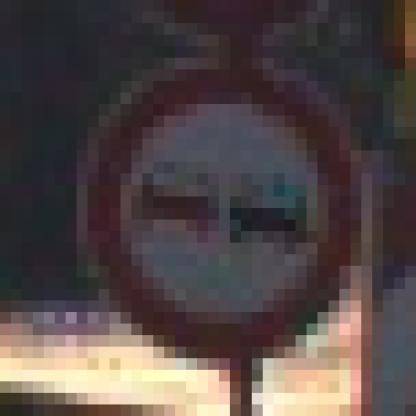No Overtaking: (67, 59, 362, 359)
